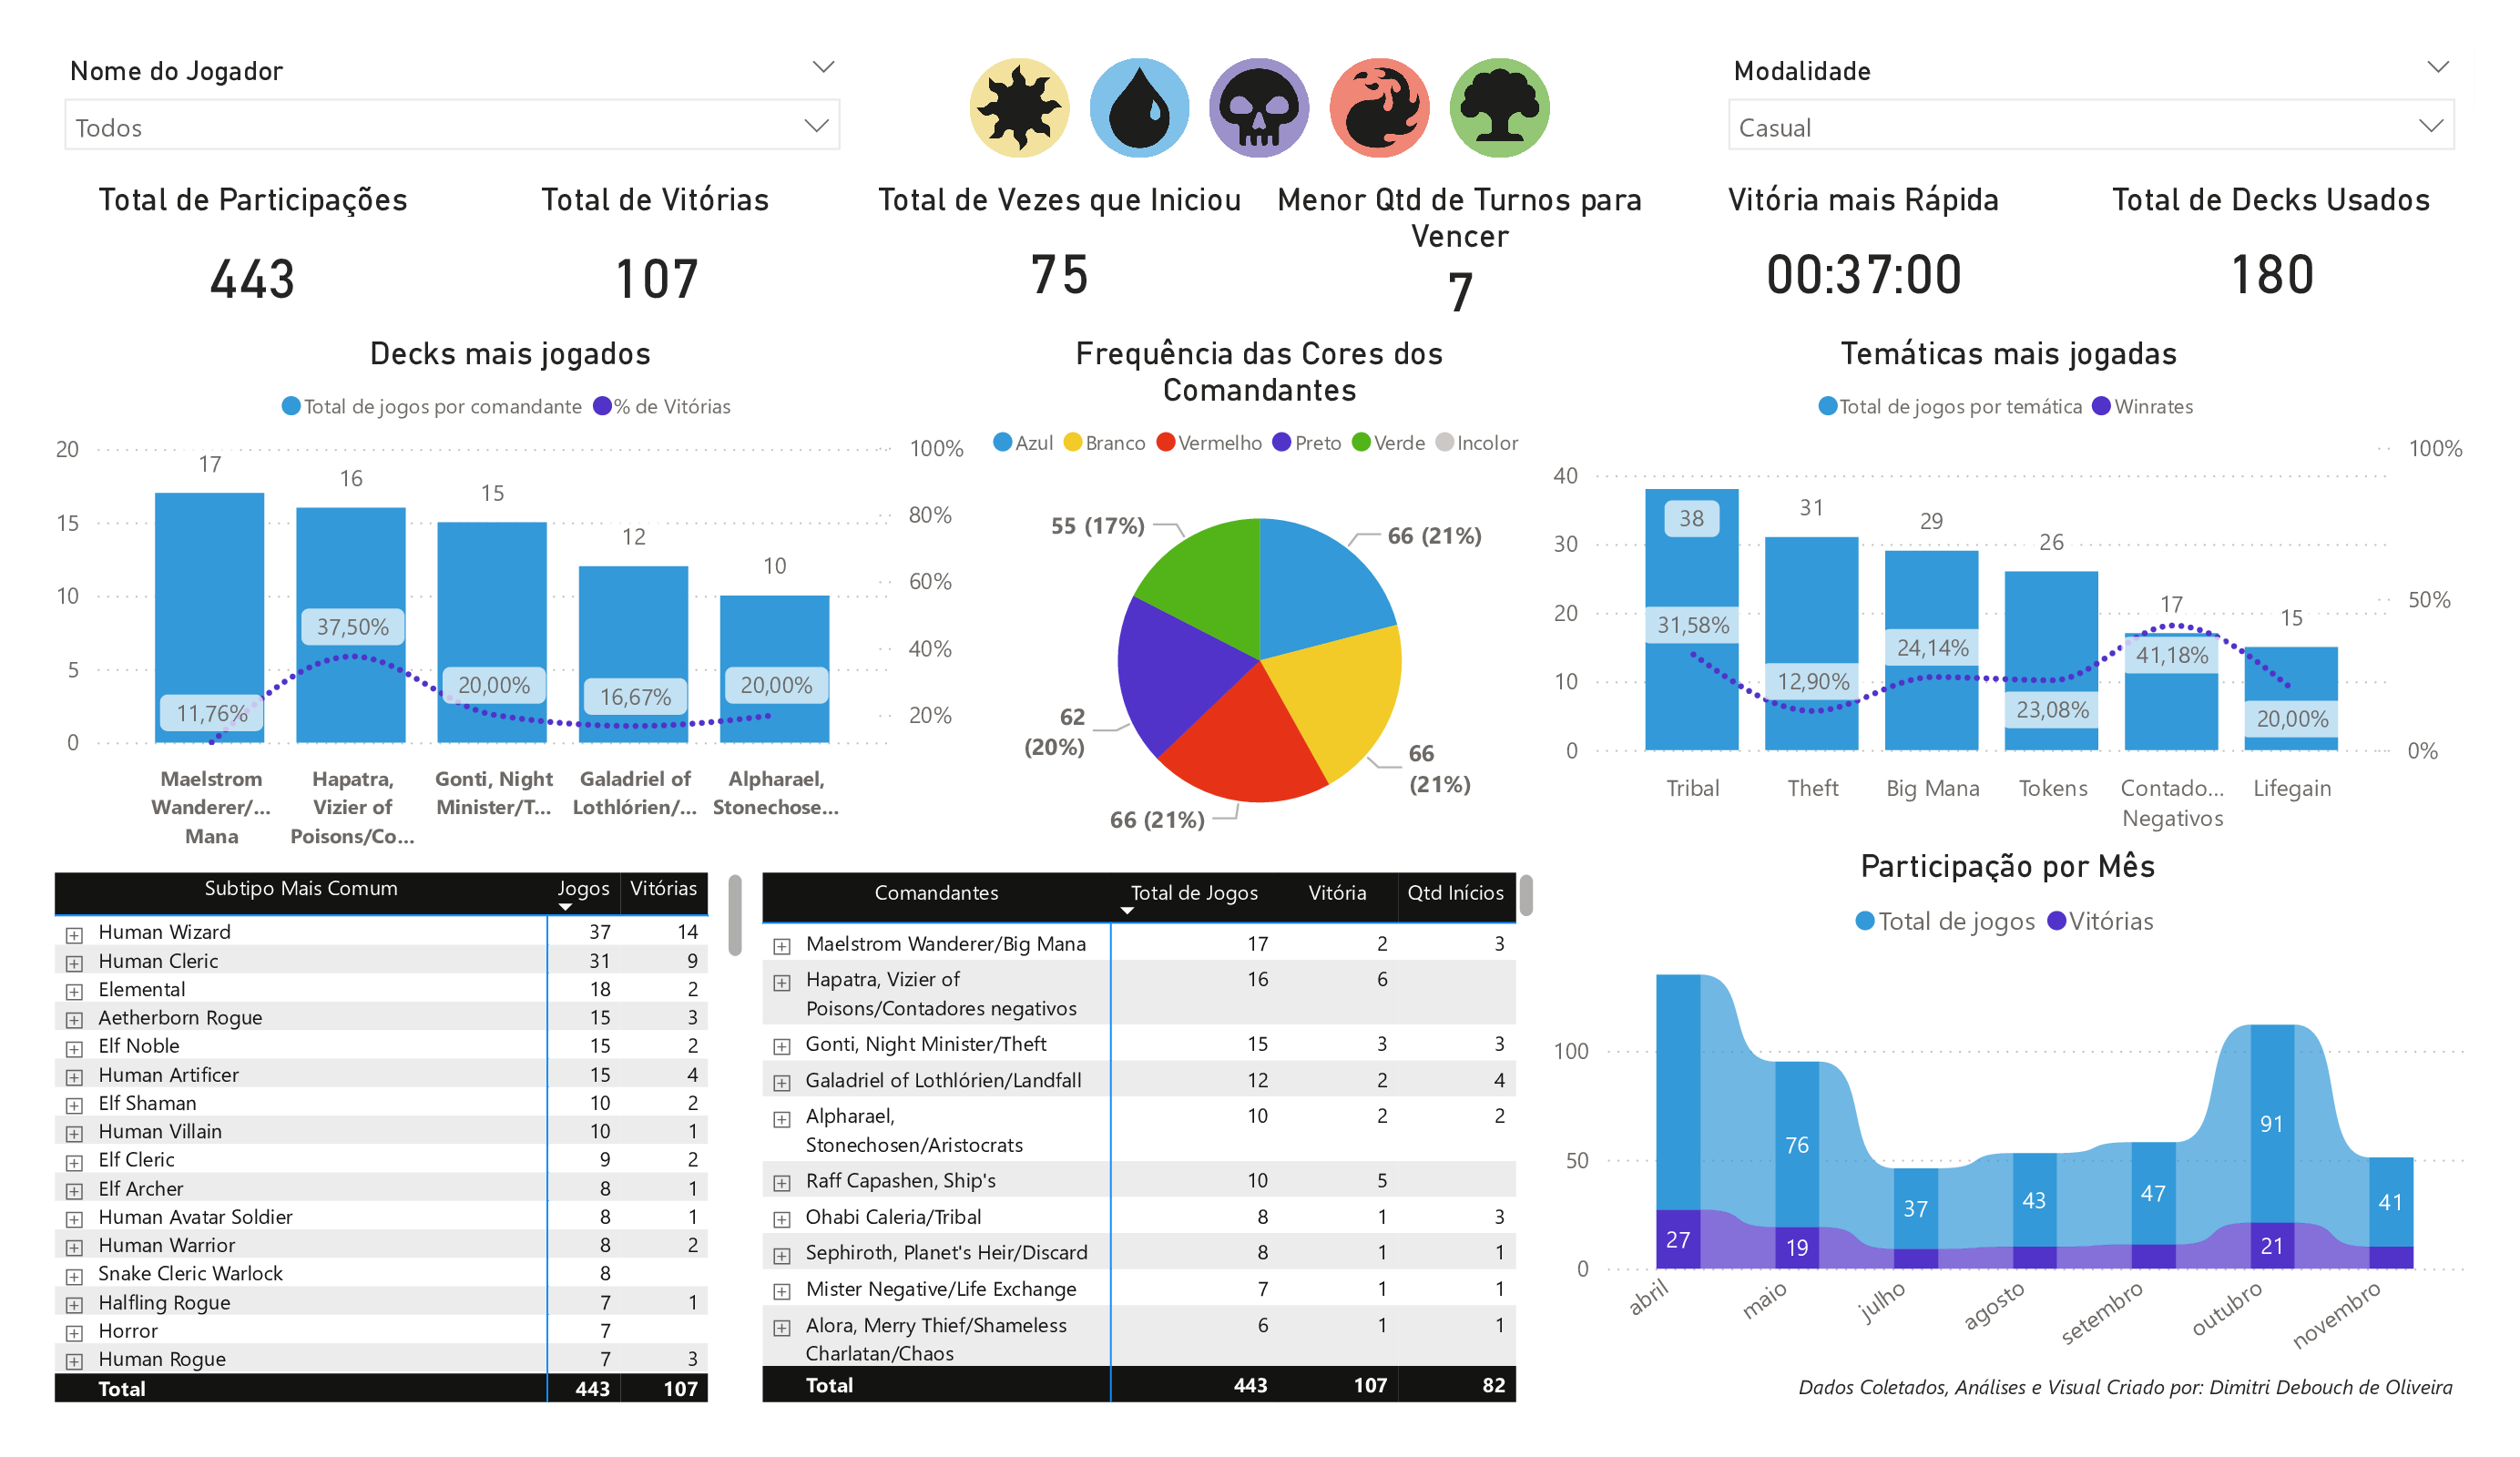

What the dashboard file says about the page in this screenshot:
{"tool":"powerbi","page":{"name":"DeepDive Player","canvas":[1280,720],"ordinal":2},"visuals":[{"type":"image","box":[428.8,0,422.7,71.3],"z":0},{"type":"slicer","title":"Modalidade","fields":{"Values":["Jogos.Modo_jogo"]},"box":[876.7,0,403,71.3],"z":1000},{"type":"card","title":"Total de Participações","fields":{"Values":["CountNonNull(Participação.id_jogador)"]},"box":[0,71.3,219.3,81.1],"z":2000},{"type":"card","title":"Total de Vitórias","fields":{"Values":["CountNonNull(Participação.id_jogo)"]},"box":[214.4,71.3,214.4,81.1],"z":3000},{"type":"card","title":"Total de Vezes que Iniciou","fields":{"Values":["CountNonNull(Participação.id_participação)"]},"box":[428.8,71.3,211.3,81.1],"z":4000},{"type":"lineClusteredColumnComboChart","title":"Decks mais jogados","fields":{"Category":["Deck.deck_name"],"Y":["CountNonNull(Participação.id_participação)"],"Y2":["Deck.Deck Winrate"]},"box":[0,152.2,489.9,279],"z":5000},{"type":"lineClusteredColumnComboChart","title":"Temáticas mais jogadas","fields":{"Category":["Deck.Tema_deck"],"Y":["CountNonNull(Participação.id_jogo)"],"Y2":["Deck.Deck Winrate"]},"box":[789.9,152.2,489.9,283.3],"z":6000},{"type":"slicer","fields":{"Values":["Jogadores.Nome_jogador"]},"box":[0,0,428.8,71.3],"z":7000},{"type":"pieChart","title":"Frequência das Cores dos Comandantes","fields":{"Category":["Parametro_cor.Cor"],"Y":["Deck.Quantidade X Cores jogadas"]},"box":[489.9,152.2,300,279],"z":8000},{"type":"card","title":"Menor Qtd de Turnos para Vencer","fields":{"Values":["Participação.Menor Turno para Vitória"]},"box":[640.1,71.3,211.3,81.1],"z":9000},{"type":"card","title":"Vitória mais Rápida","fields":{"Values":["Participação.Jogo Mais Rápido"]},"box":[851.5,71.3,214.4,81.1],"z":10000},{"type":"card","title":"Total de Decks Usados","fields":{"Values":["Count(Deck.deck_name)"]},"box":[1065.9,71.3,214.4,81.1],"z":11000},{"type":"pivotTable","fields":{"Rows":["Deck.deck_name","Deck.Tema_deck"],"Values":["CountNonNull(Participação.id_jogo)","CountNonNull(Participação.venceu?)","CountNonNull(Participação.iniciou?)"]},"box":[372.9,431.3,417.1,288.7],"z":12000},{"type":"ribbonChart","title":"Participação por Mês","fields":{"Category":["Jogos.Data.Variation.Hierarquia de datas.Mês"],"Y":["CountNonNull(Participação.id_participação)","CountNonNull(Participação.venceu?)"]},"box":[789.4,422.3,490.9,288.7],"z":13000},{"type":"pivotTable","title":"Tipo mais Comum","fields":{"Rows":["Commander_card.subtype","Commander_card.set","Commander_card.rarity","Commander_card.name"],"Values":["CountNonNull(Participação.id_participação)","CountNonNull(Participação.venceu?)"]},"box":[0,431.3,373.1,288.7],"z":14000},{"type":"textbox","box":[918.8,692.4,361.2,27.6],"z":15000}]}

Visuals, with their boxes on the page's 1280x720 design canvas (x1, y1, x2, y2). These are canvas units, not pixel positions in the 2520x1457 screenshot, which may show the page scaled, cropped or inside an application window:
image: [429,0,852,71]
"Modalidade" slicer: [877,0,1280,71]
"Total de Participações" card: [0,71,219,152]
"Total de Vitórias" card: [214,71,429,152]
"Total de Vezes que Iniciou" card: [429,71,640,152]
"Decks mais jogados" lineClusteredColumnComboChart: [0,152,490,431]
"Temáticas mais jogadas" lineClusteredColumnComboChart: [790,152,1280,436]
slicer - Jogadores.Nome_jogador: [0,0,429,71]
"Frequência das Cores dos Comandantes" pieChart: [490,152,790,431]
"Menor Qtd de Turnos para Vencer" card: [640,71,851,152]
"Vitória mais Rápida" card: [852,71,1066,152]
"Total de Decks Usados" card: [1066,71,1280,152]
pivotTable - Deck.deck_name x Deck.Tema_deck: [373,431,790,720]
"Participação por Mês" ribbonChart: [789,422,1280,711]
"Tipo mais Comum" pivotTable: [0,431,373,720]
textbox: [919,692,1280,720]
